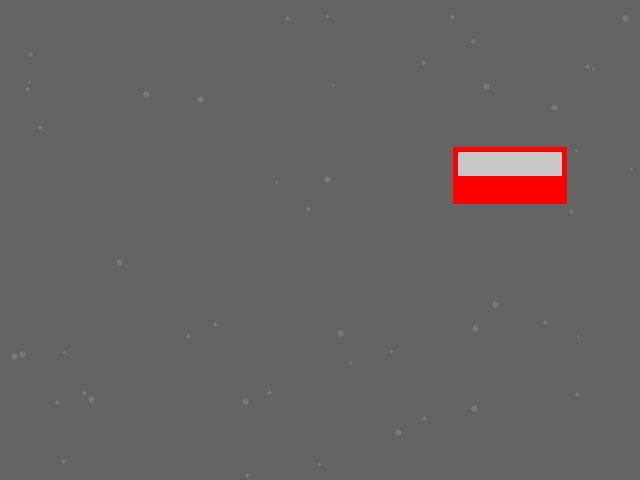car: (453, 147, 566, 203)
